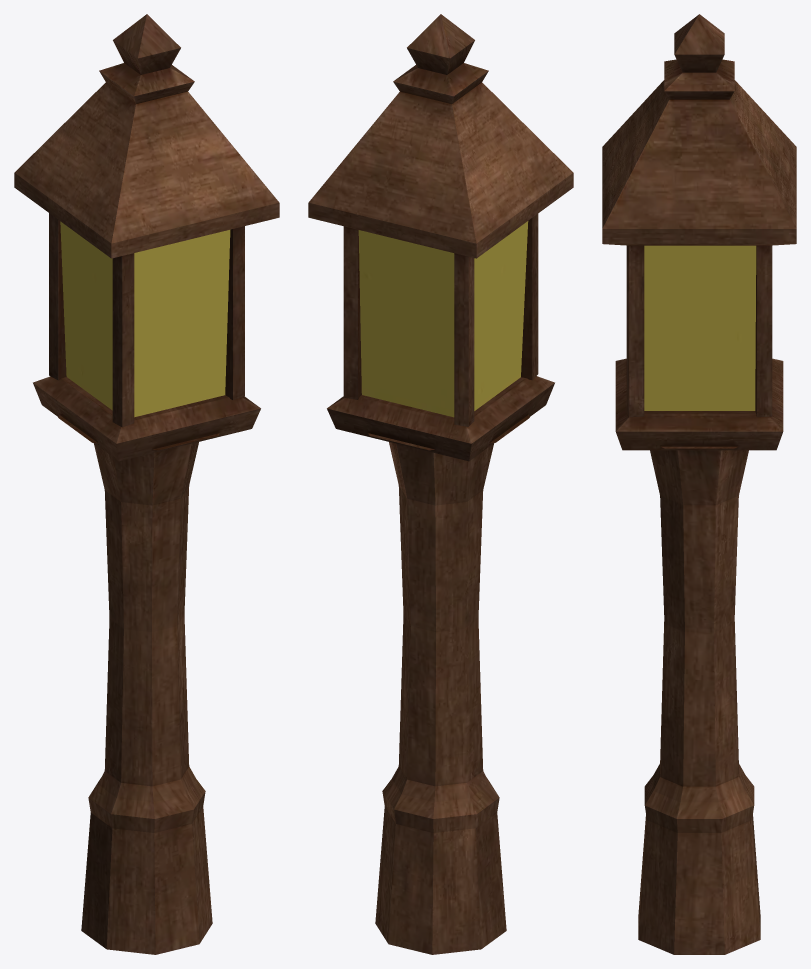
The model's file is lantern-post.glb.
3 renders of one model, left to right at view 1: azimuth 30°, elevation 25°; view 2: azimuth 150°, elevation 25°; view 3: azimuth 270°, elevation 25°, orthographic.
Visible parts, largest first — view 1: Garden_Lantern_Post, Lantern_Head.006, Lantern_Head.001, Lantern_Head, Lantern_Head.002, Lantern_Head.003, Lantern_Head.005; view 2: Garden_Lantern_Post, Lantern_Head.006, Lantern_Head.001, Lantern_Head, Lantern_Head.005, Lantern_Head.004, Lantern_Head.002; view 3: Garden_Lantern_Post, Lantern_Head.006, Lantern_Head.001, Lantern_Head, Lantern_Head.003, Lantern_Head.004.
Boxes of the visible parts, x1,y1,x2,y2 form: Garden_Lantern_Post: (58, 415, 219, 954); Lantern_Head.006: (14, 14, 279, 258); Lantern_Head.001: (60, 221, 230, 417); Lantern_Head: (33, 376, 260, 461); Lantern_Head.002: (112, 253, 134, 427); Lantern_Head.003: (225, 226, 244, 400); Lantern_Head.005: (49, 213, 66, 380); Garden_Lantern_Post: (368, 415, 529, 954); Lantern_Head.006: (308, 14, 573, 258); Lantern_Head.001: (358, 221, 528, 417); Lantern_Head: (327, 376, 554, 461); Lantern_Head.005: (454, 253, 474, 426); Lantern_Head.004: (343, 226, 361, 399); Lantern_Head.002: (521, 214, 538, 380); Garden_Lantern_Post: (638, 446, 760, 954); Lantern_Head.006: (602, 14, 796, 245); Lantern_Head.001: (644, 245, 756, 410); Lantern_Head: (615, 358, 783, 450); Lantern_Head.003: (626, 245, 644, 417); Lantern_Head.004: (755, 245, 772, 417).
Bounding box in the file's own units: 0.8202 × 4.26 × 0.8202.
1 material, 1 textured.
